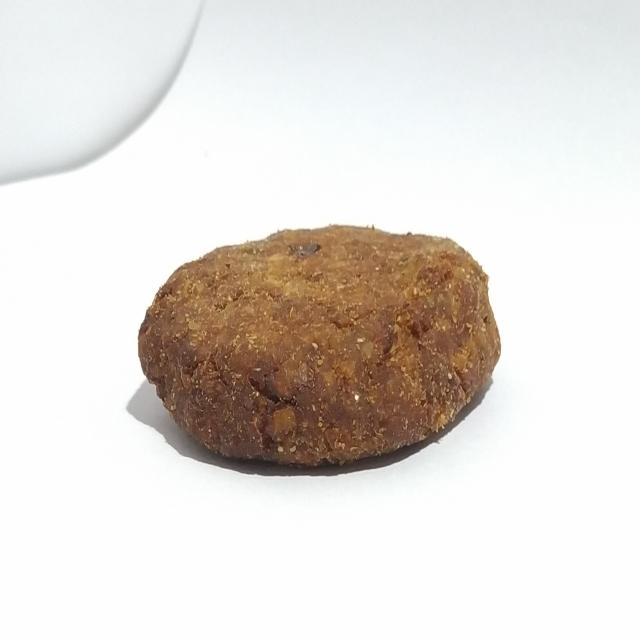Pajagua: (134, 205, 506, 486)
